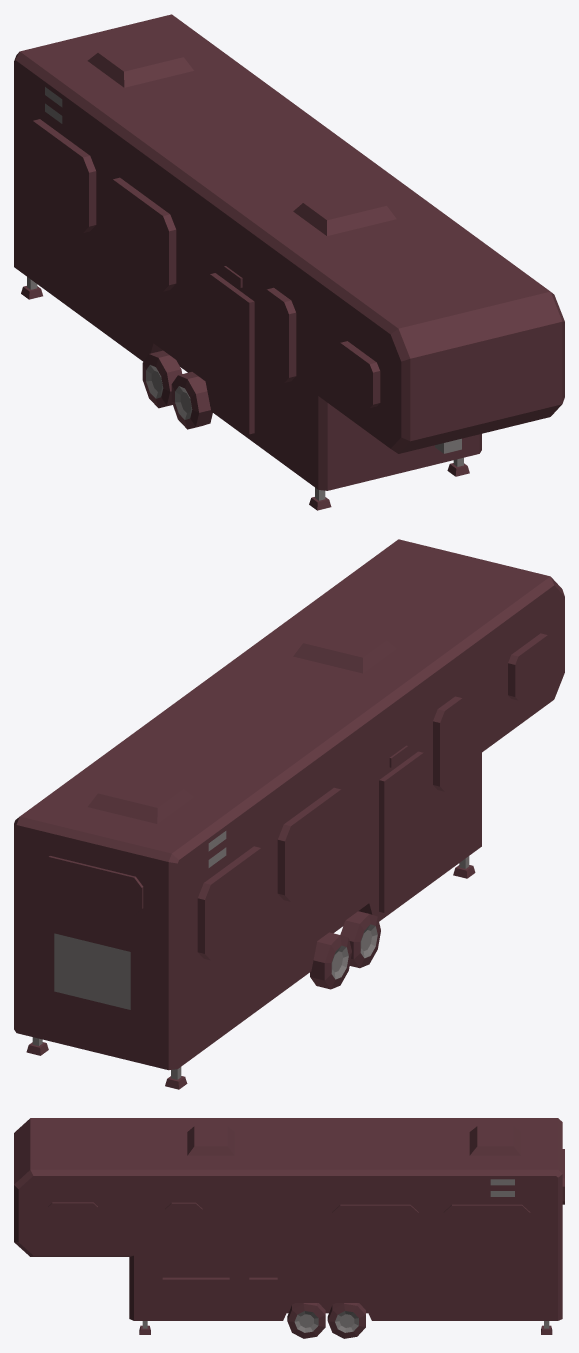
Rendered from car-caravan-big-standing.fbx.
3 views of the same model, one above another, from view 1: azimuth 30°, elevation 25°; view 2: azimuth 150°, elevation 25°; view 3: azimuth 270°, elevation 25° (orthographic). The views are drawn at different scales.
Visible parts, largest first — view 1: car-caravan-big-standing; view 2: car-caravan-big-standing; view 3: car-caravan-big-standing.
Part boxes in pixels (x1,y1,x2,y2): car-caravan-big-standing: [14, 14, 564, 510]; car-caravan-big-standing: [14, 539, 564, 1089]; car-caravan-big-standing: [14, 1118, 564, 1338].
Size of the model in its own units: 2.64 by 3.53 by 10.04.
